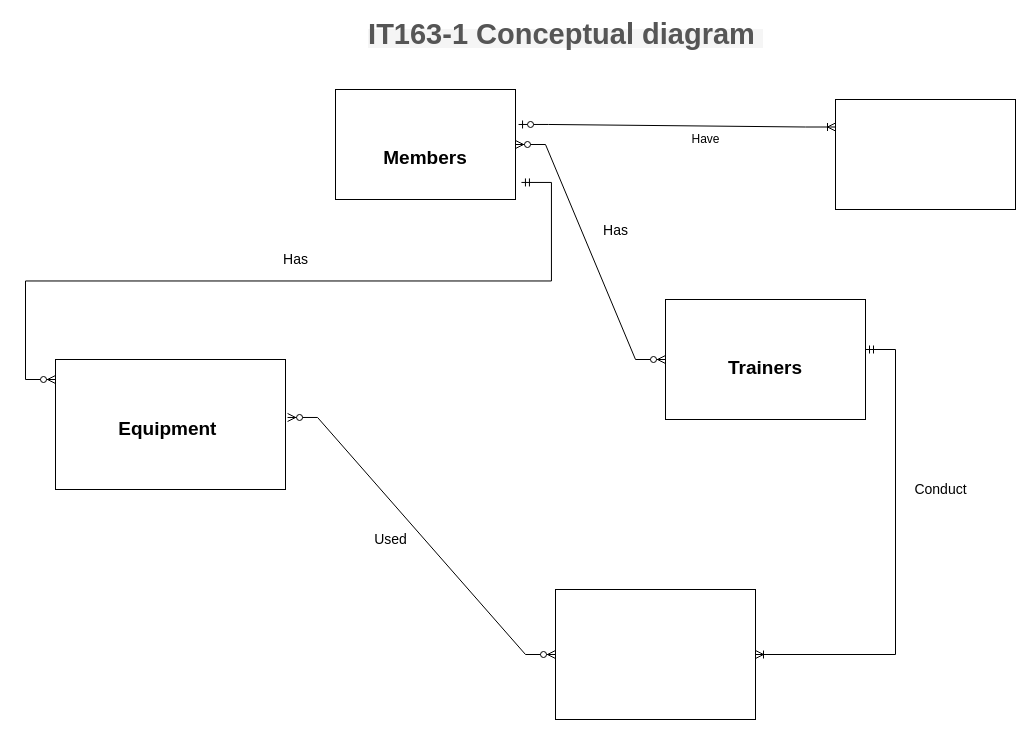
This 1033x737 diagram has some shape labels left out. The shapes that lost their labels are listed below. From the top down, each one's centre as x and y in pixels, then its label:
point 925,154: Membership
point 655,654: Training
